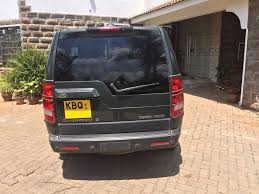licencePlate: (62, 100, 94, 120)
